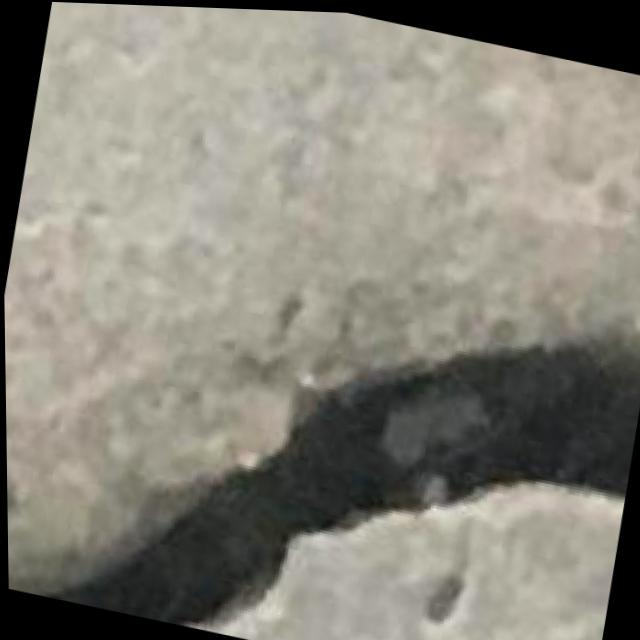Crack: (46, 211, 640, 640)
